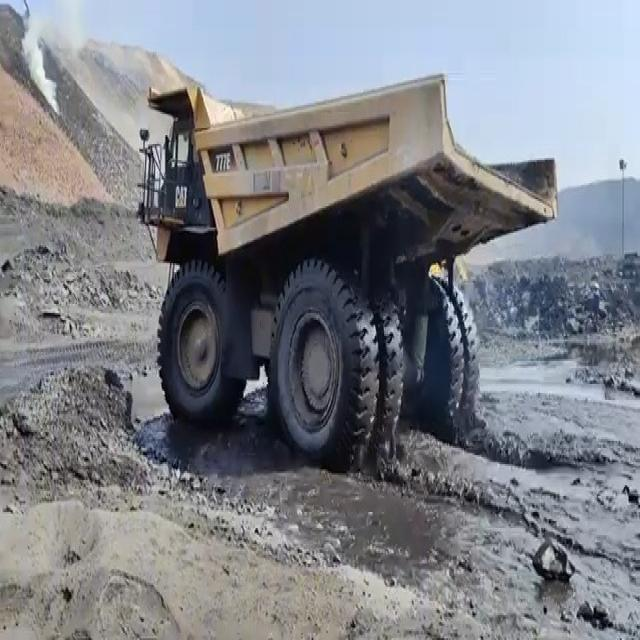dump_truck: (138, 70, 564, 456)
